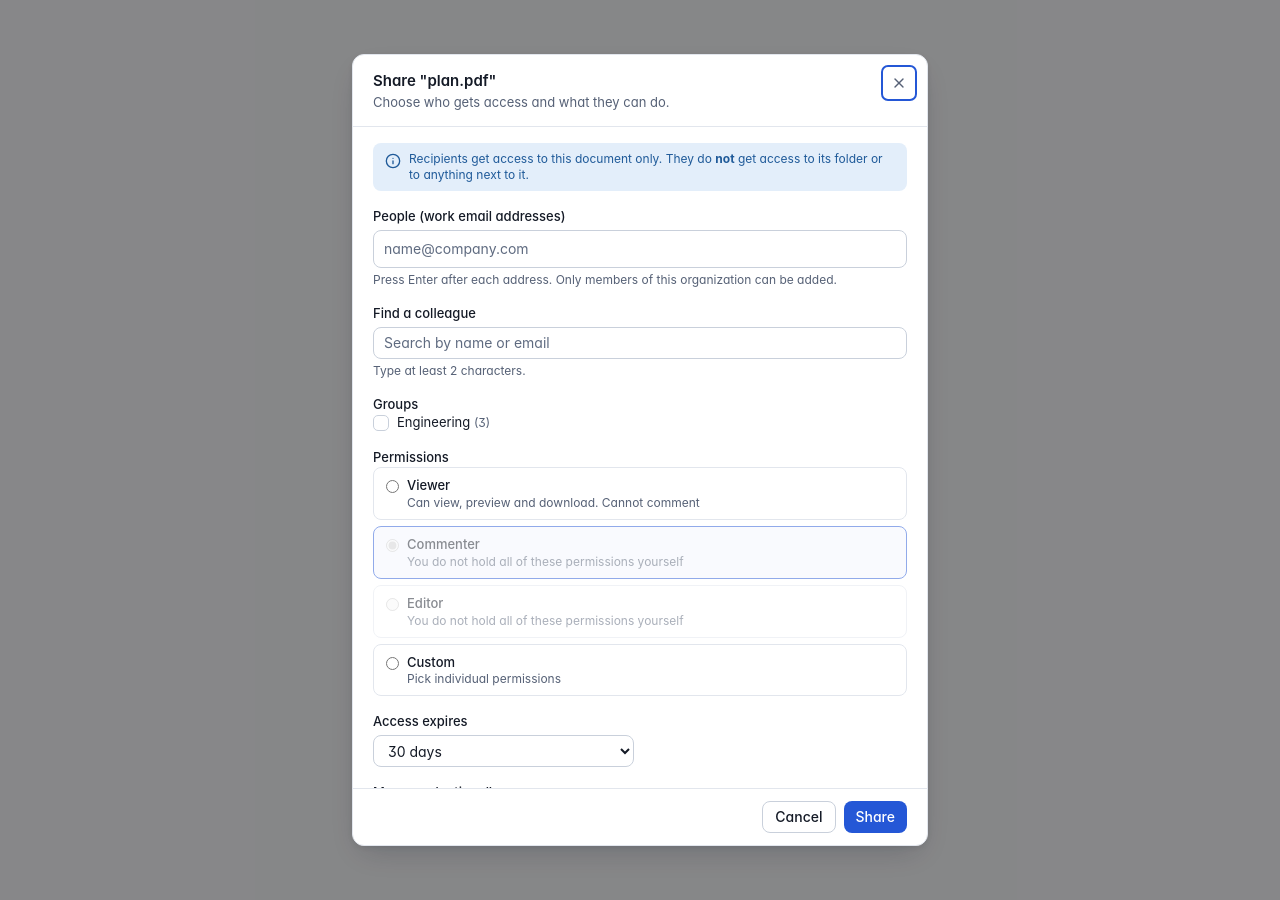
it: ShareDialog › shows unknown_recipient precisely and keeps the dialog open
The width and height of the screenshot is (1280, 900).
Type "stranger@evil.test" into the field labelled "People (work email addresses)" at [640, 249], box [380, 237, 900, 261]
Then press Enter
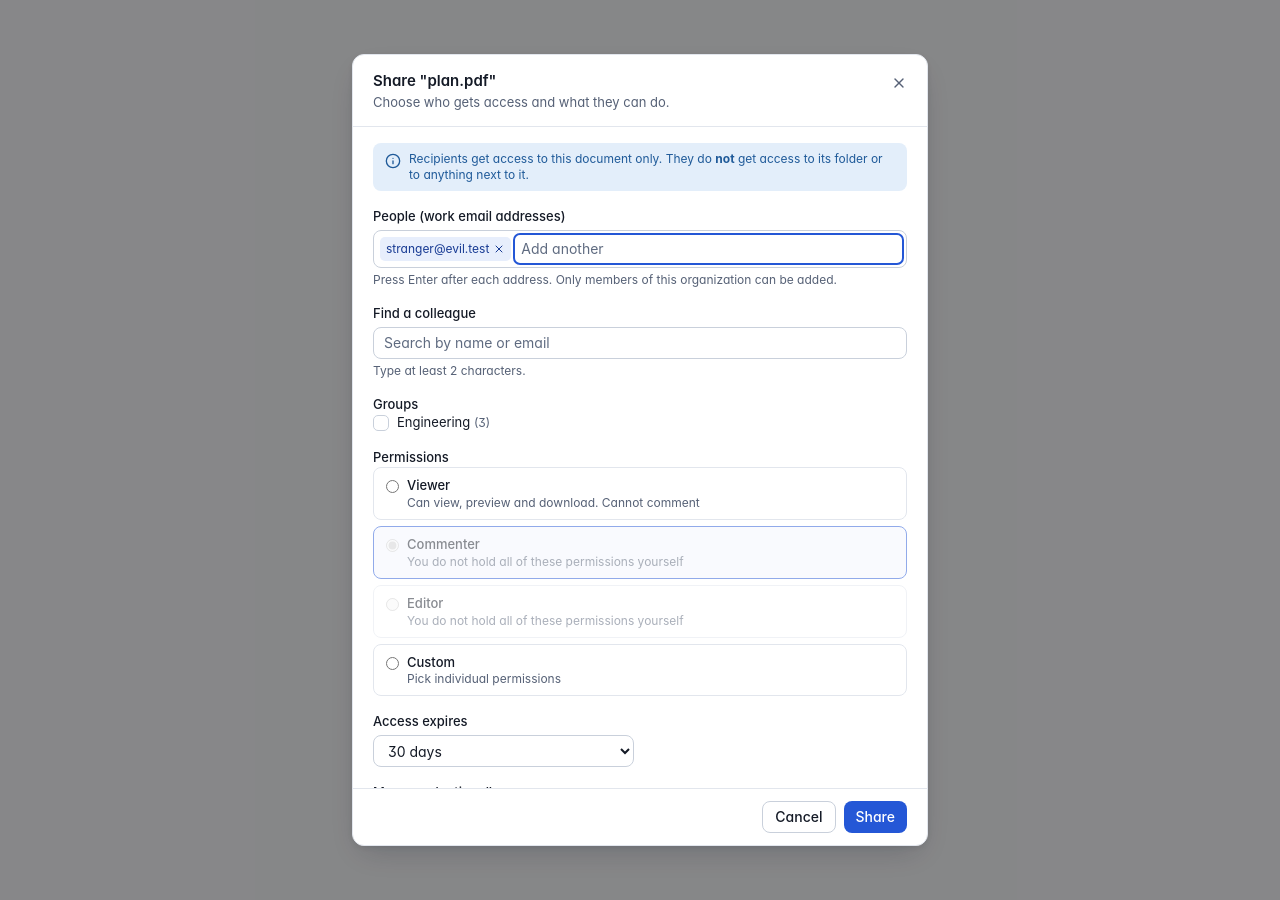
Click the button "Share" at [875, 817], box [844, 801, 907, 833]
(page scrolled)
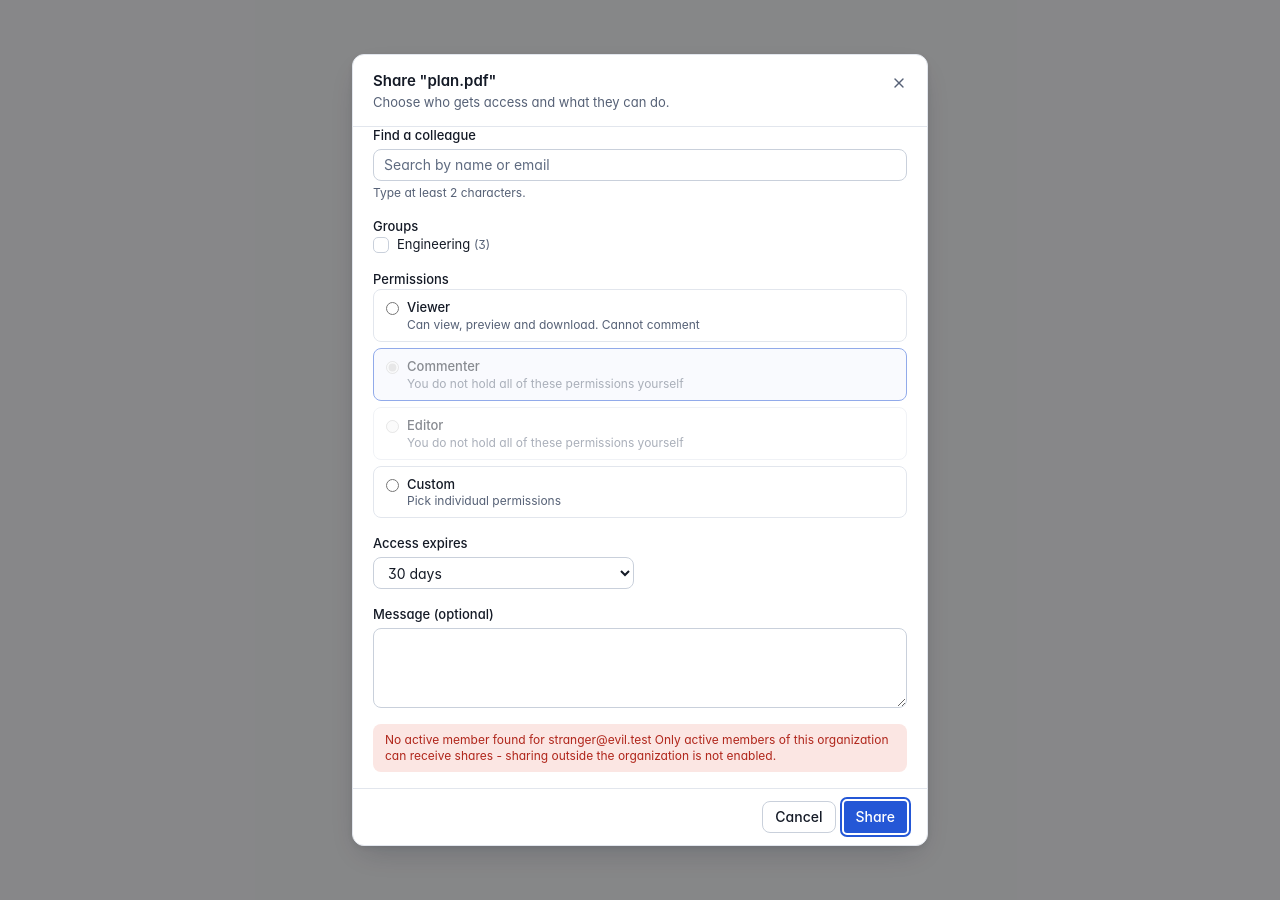
Check: the text "sharing outside the organization is not enabled" shows "No active member found for stranger@evil.test", box [385, 732, 888, 763]
